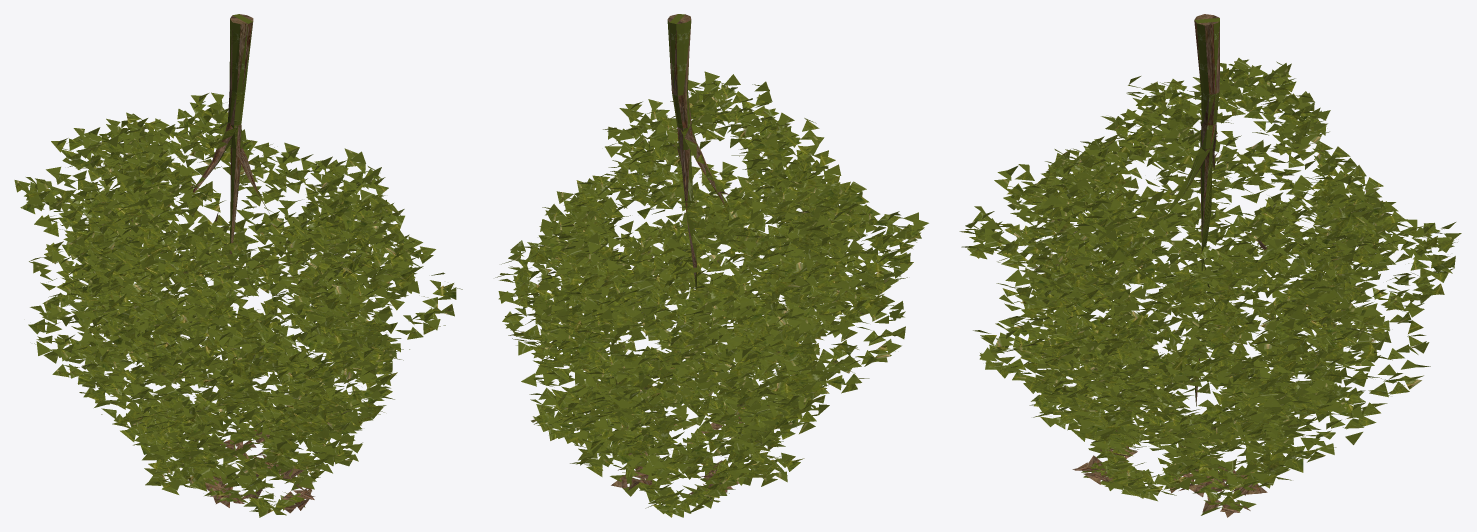
The model's file is reduced_tree_old.dae.
3 renders of one model, left to right at view 1: azimuth 30°, elevation 25°; view 2: azimuth 150°, elevation 25°; view 3: azimuth 270°, elevation 25°, orthographic. The views are drawn at different scales.
Visible parts, largest first — view 1: node; view 2: node; view 3: node.
Boxes of the visible parts, x1,y1,x2,y2 form: node: (14,14,462,517); node: (495,14,928,517); node: (959,14,1461,517).
Bounding box in the file's own units: 8.88 × 10.48 × 11.12.
